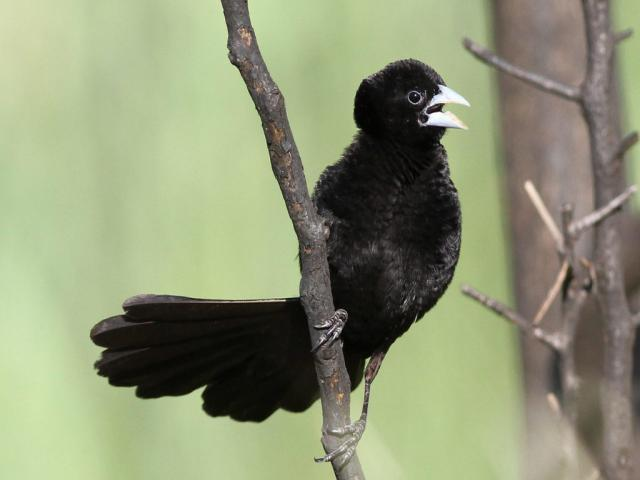Bird: (92, 57, 471, 413)
